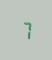seven: (19, 19, 30, 40)
